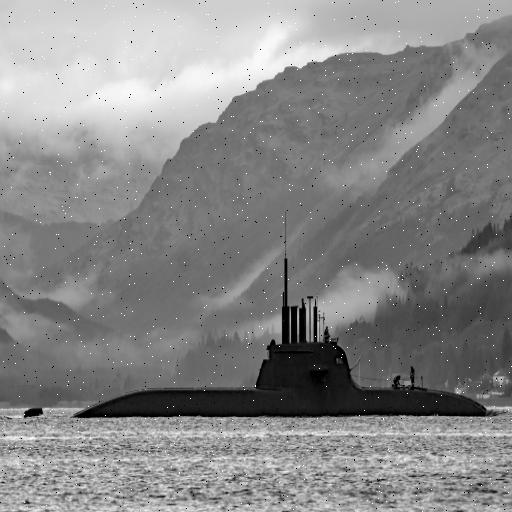submarine: (28, 252, 502, 416)
